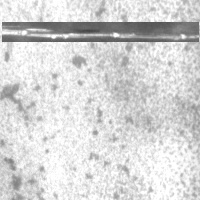pitted_surface: (48, 1, 200, 200), (1, 75, 45, 200)
scratches: (2, 22, 199, 42)
